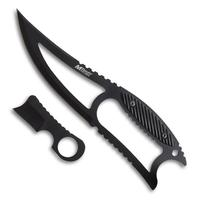knife: (14, 5, 177, 169)
